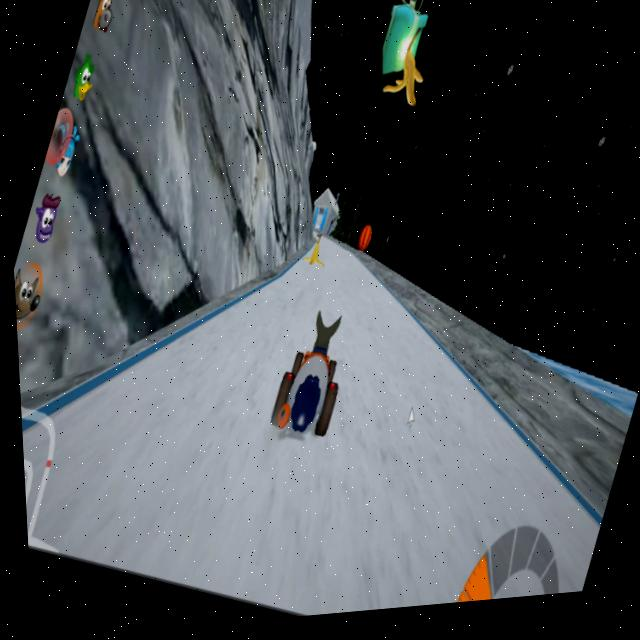obstacle: (291, 236, 330, 286)
player_kart: (252, 302, 362, 460)
